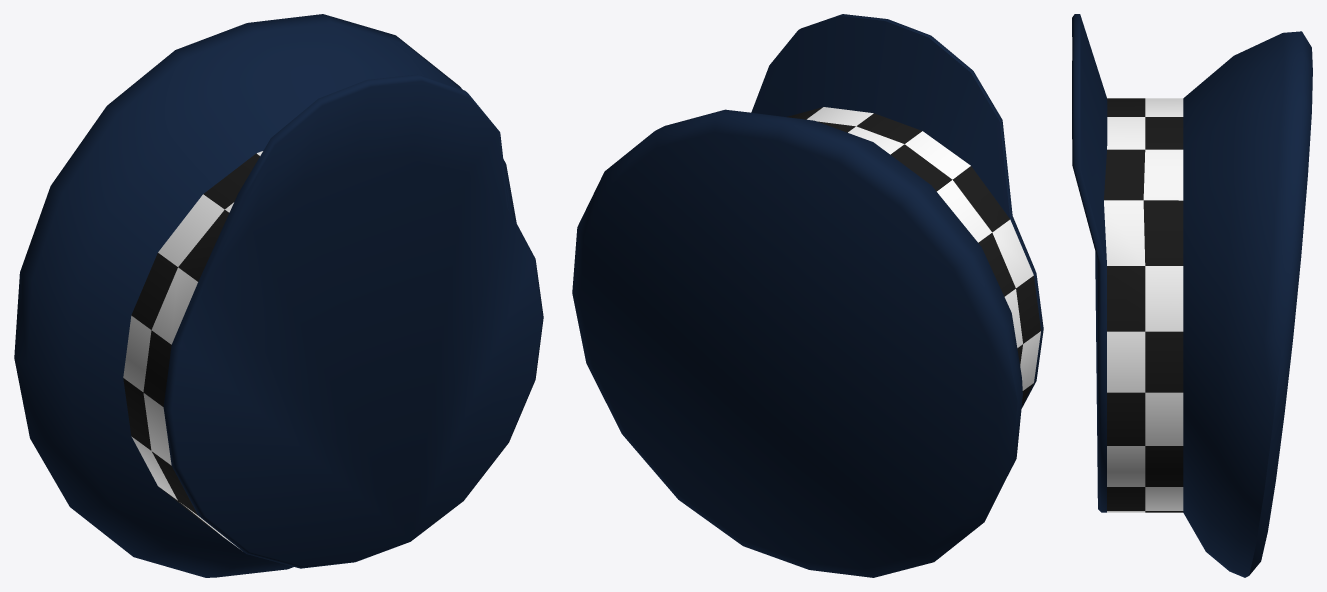
File: Police_Cap.fbx
3 views of the same model, side by side, from view 1: azimuth 30°, elevation 25°; view 2: azimuth 150°, elevation 25°; view 3: azimuth 270°, elevation 25° (orthographic). The views are drawn at different scales.
Visible parts, largest first — view 1: Police_Cap; view 2: Police_Cap; view 3: Police_Cap.
Boxes of the visible parts, x1,y1,x2,y2 form: Police_Cap: [14, 14, 543, 577]; Police_Cap: [572, 14, 1043, 577]; Police_Cap: [1072, 14, 1312, 577].
Size of the model in its own units: 0.6157 by 0.6504 by 0.2715.
